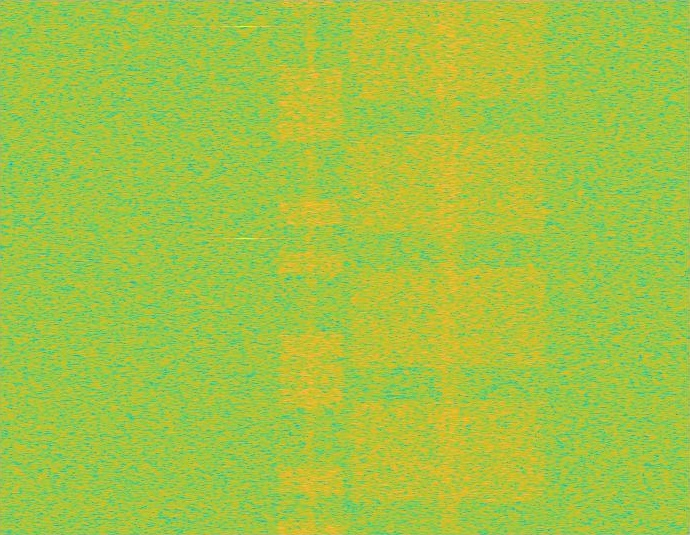5G: (345, 0, 552, 534)
DSSS: (435, 0, 462, 534), (306, 0, 315, 534)
LTE: (276, 0, 345, 534)
Radar: (239, 0, 253, 534)
